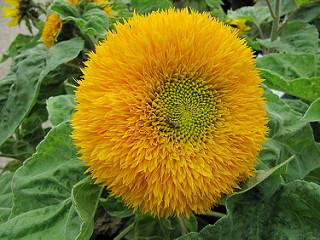sunflower: (73, 7, 268, 218)
